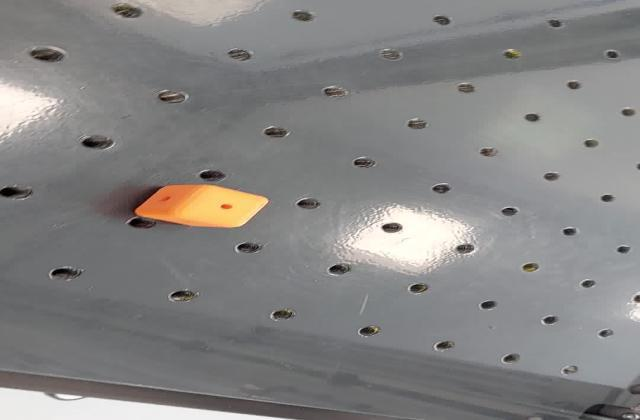cube: (130, 182, 272, 230)
